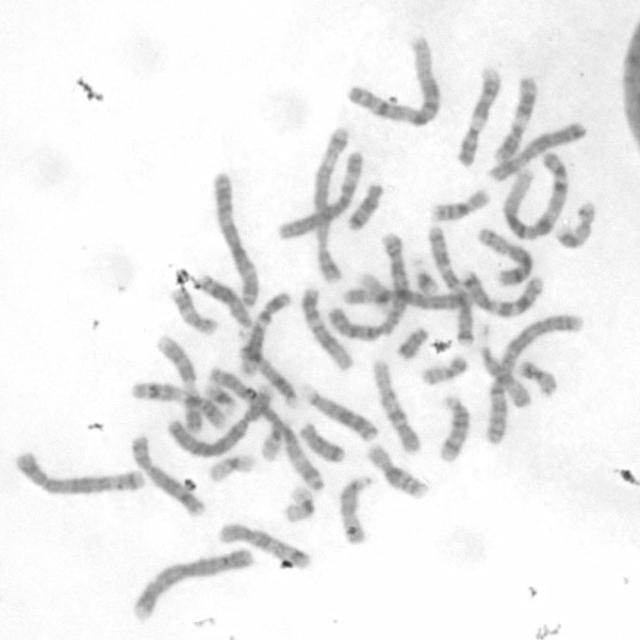A1: (343, 31, 441, 128), (502, 150, 570, 242)
A2: (483, 313, 585, 448), (327, 231, 411, 341)
A3: (207, 364, 326, 492), (212, 172, 261, 309)
B4: (130, 547, 255, 624), (166, 384, 274, 458)
B5: (10, 447, 148, 497), (311, 125, 354, 284)
C10: (372, 357, 424, 457), (219, 522, 312, 572)
C11: (130, 382, 228, 431), (492, 74, 538, 163)
C12: (299, 288, 355, 372), (240, 291, 292, 378)
C6: (275, 150, 366, 242), (343, 285, 475, 310)
C7: (427, 225, 476, 348), (464, 268, 544, 318)
C8: (128, 435, 210, 522), (477, 226, 535, 288)
C9: (156, 336, 203, 434), (458, 63, 502, 166)
D13: (309, 390, 379, 444), (198, 272, 254, 330)
D14: (236, 344, 298, 410), (438, 396, 472, 463)
D15: (477, 344, 533, 410), (336, 474, 379, 548)
E16: (366, 443, 430, 501), (429, 188, 490, 224)
E17: (168, 285, 218, 336), (554, 200, 596, 249)
E18: (299, 421, 347, 464), (347, 181, 385, 231)
F19: (208, 452, 258, 484), (282, 482, 318, 525)
F20: (519, 359, 560, 398), (422, 354, 468, 386)
G21: (408, 258, 441, 294), (204, 382, 238, 414)
G22: (357, 271, 392, 312), (258, 426, 284, 463)
X: (487, 120, 588, 182)
Y: (396, 326, 430, 361)
